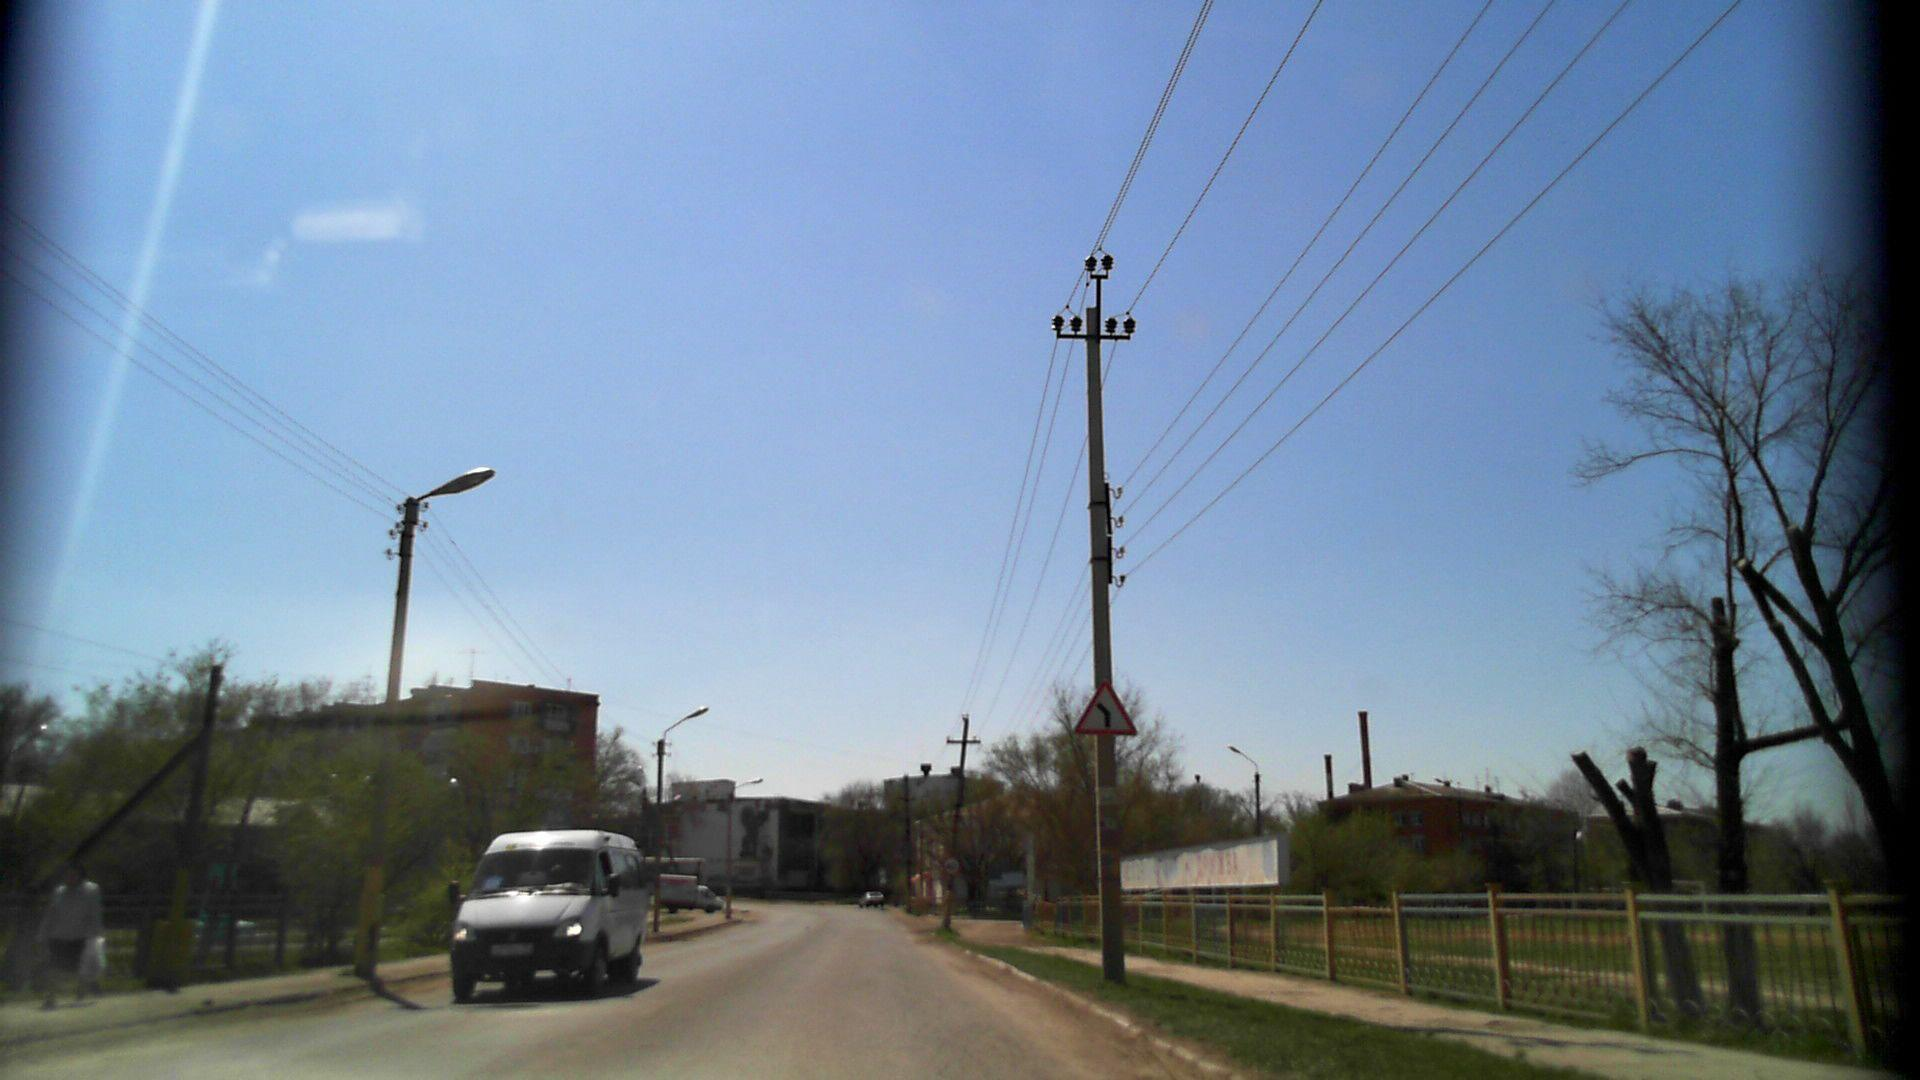1_11_1: (1071, 684, 1142, 736)
